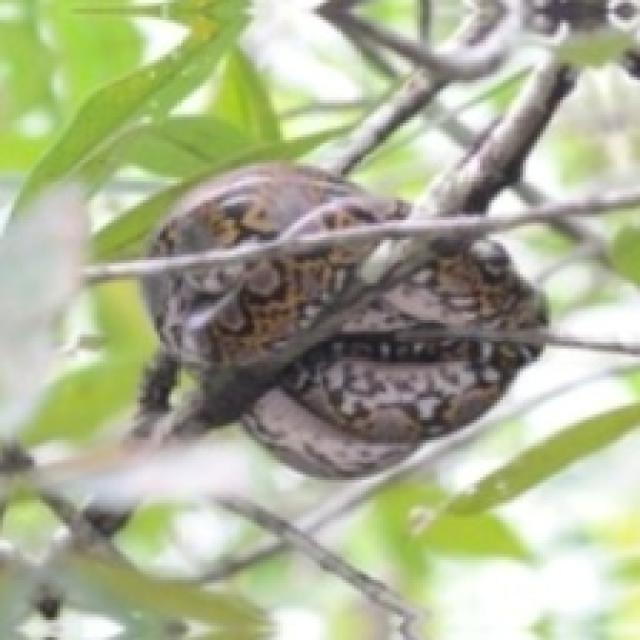reticulated python: (140, 240, 546, 474), (149, 163, 406, 254)
